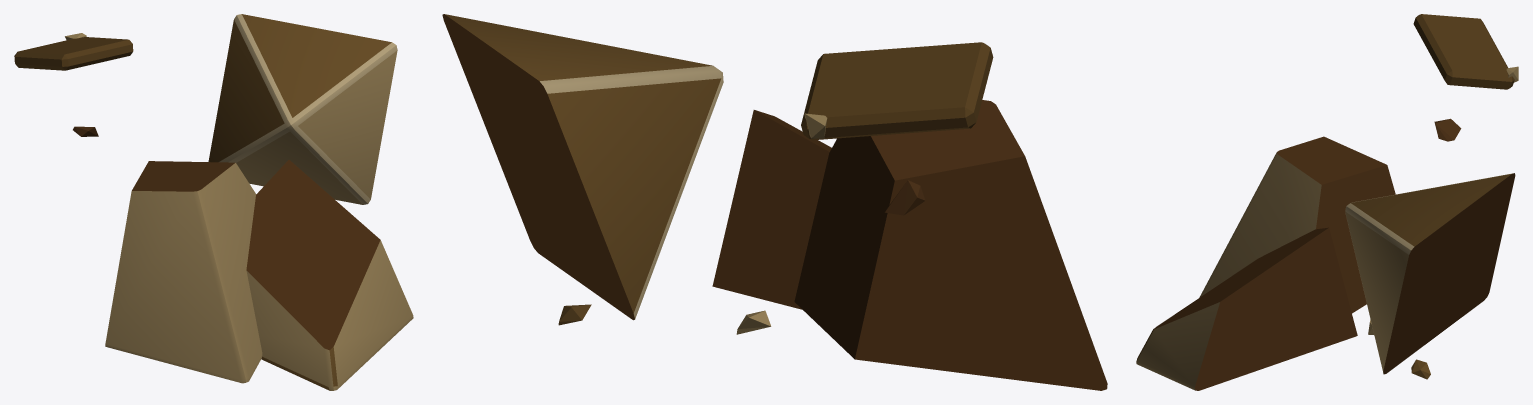
File: pyramid_cap_wreck.glb
3 views of the same model, side by side, from view 1: azimuth 30°, elevation 25°; view 2: azimuth 150°, elevation 25°; view 3: azimuth 270°, elevation 25° (orthographic). The views are drawn at different scales.
Visible parts, largest first — view 1: cap_quarter0, cap_upper, cap_quarter1, cap_plinth_slab; view 2: cap_quarter0, cap_upper, cap_plinth_slab, cap_quarter1, cap_shard3; view 3: cap_upper, cap_quarter1, cap_quarter0, cap_plinth_slab, cap_shard3.
Part boxes in pixels (x1,y1,x2,y2): cap_quarter0: (105, 161, 262, 383); cap_upper: (208, 14, 397, 204); cap_quarter1: (246, 160, 413, 390); cap_plinth_slab: (14, 37, 133, 70); cap_quarter0: (794, 100, 1107, 390); cap_upper: (442, 14, 723, 320); cap_plinth_slab: (801, 42, 993, 140); cap_quarter1: (712, 110, 831, 309); cap_shard3: (885, 180, 925, 215); cap_upper: (1345, 173, 1515, 374); cap_quarter1: (1136, 227, 1357, 390); cap_quarter0: (1199, 136, 1395, 313); cap_plinth_slab: (1413, 14, 1514, 89); cap_shard3: (1434, 118, 1461, 141).
Bounding box in the file's own units: 13.57 × 10 × 12.29.
